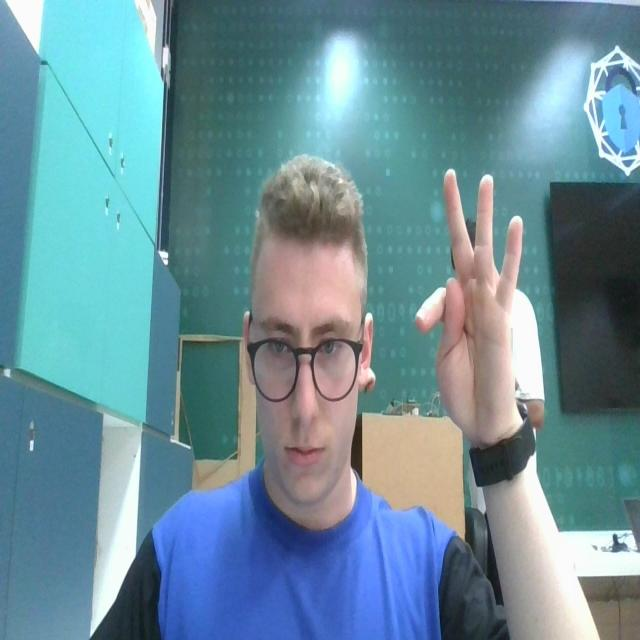T: (413, 158, 525, 434)
